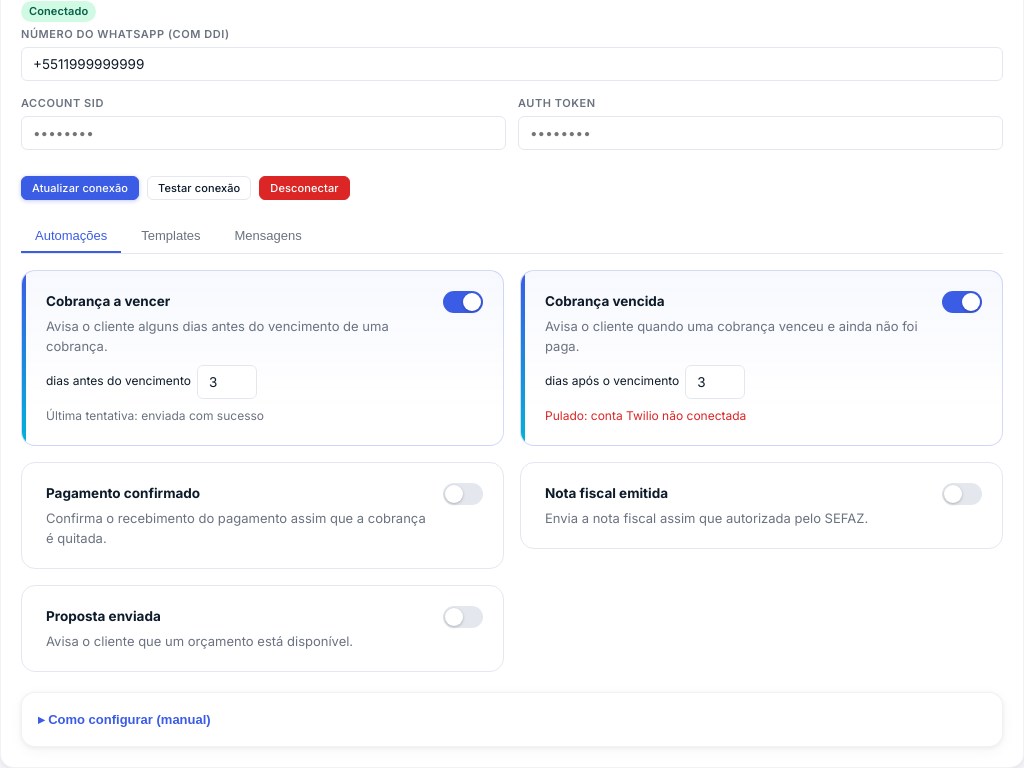
Test case: WhatsAppSettingsCard — consolidação em Minha Empresa > Integrações (regra 83) › o manual embutido começa fechado e expande ao clicar
This screenshot has width=1024, height=768.
(page scrolled)
Check: the text "1. Crie uma conta Twilio e um remetente WhatsApp" is not shown
Click the text "Como configurar (manual)".
click(129, 720)  # box [48,712,211,728]
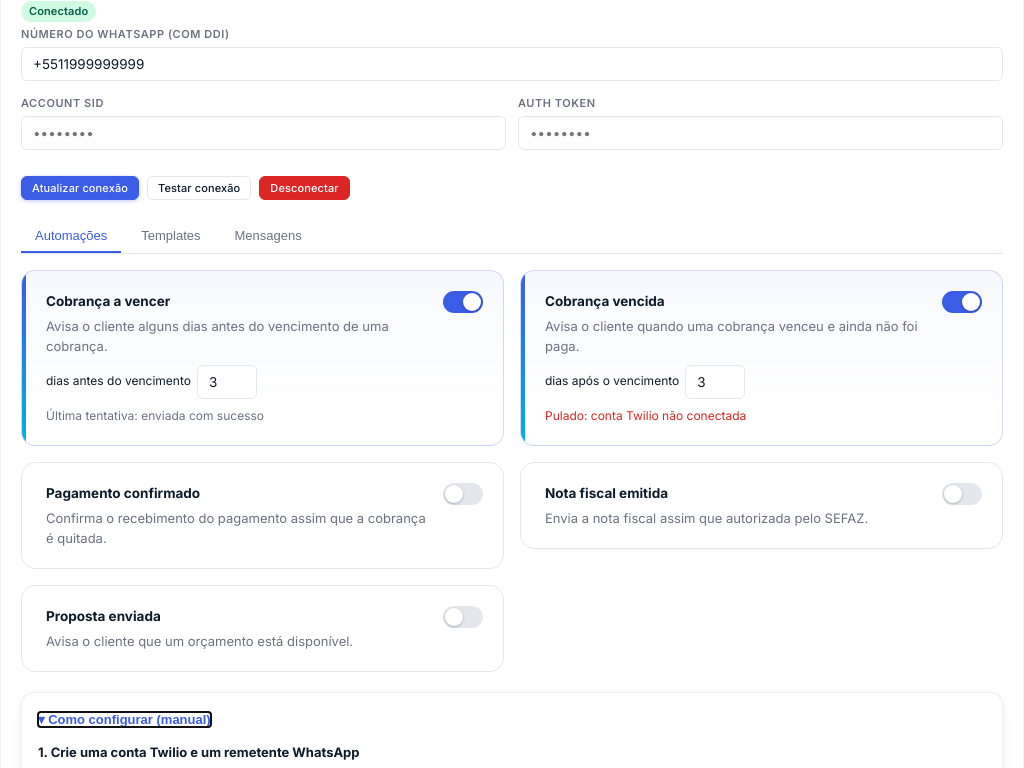
Check: the text "1. Crie uma conta Twilio e um remetente WhatsApp" is shown, box [38,744,360,760]
